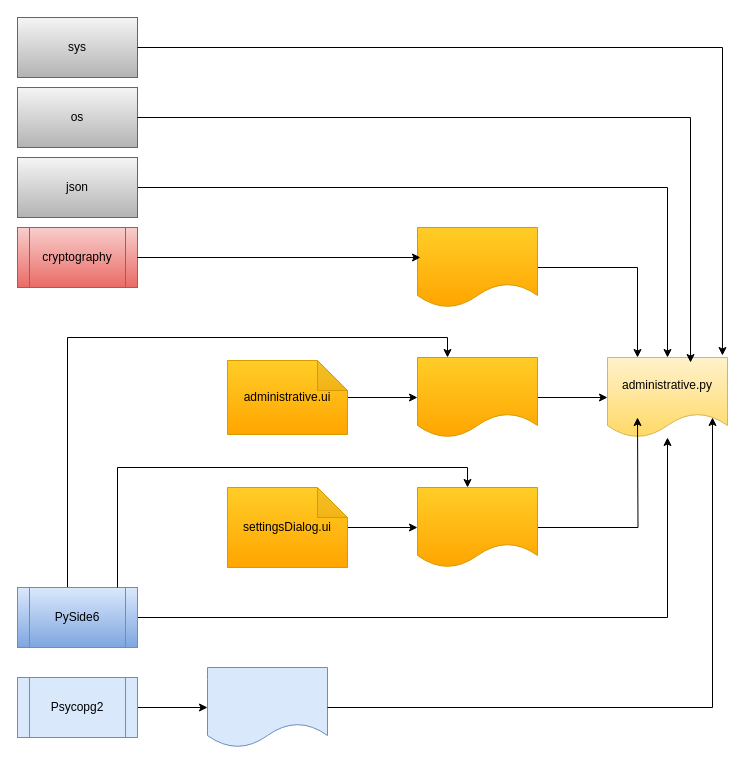
Some shapes in this 748 by 765 pixel diagram are drawn without their labels. Here are the shapes that lost their labels. From the top down, the centre of each, then its label:
At point (477, 267): "cipher.py".
At point (477, 397): "administrative_ui.py".
At point (477, 527): "settingsDialog_ui.py".
At point (267, 707): "Dp operations".
